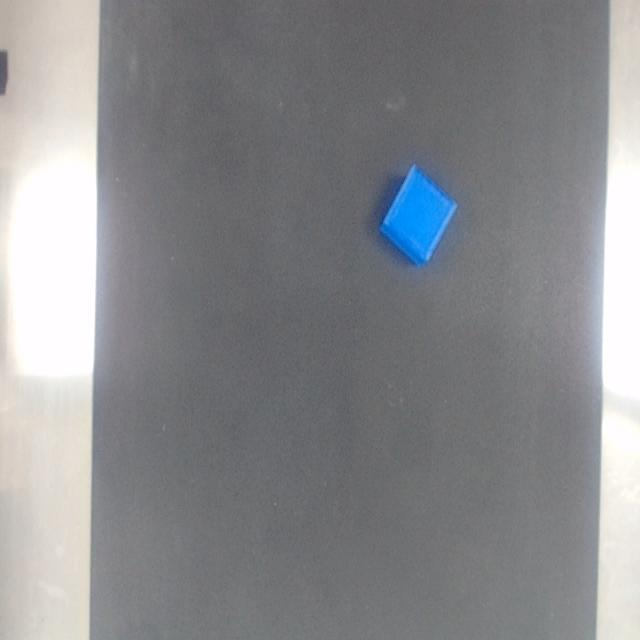Azul: (380, 165, 456, 265)
